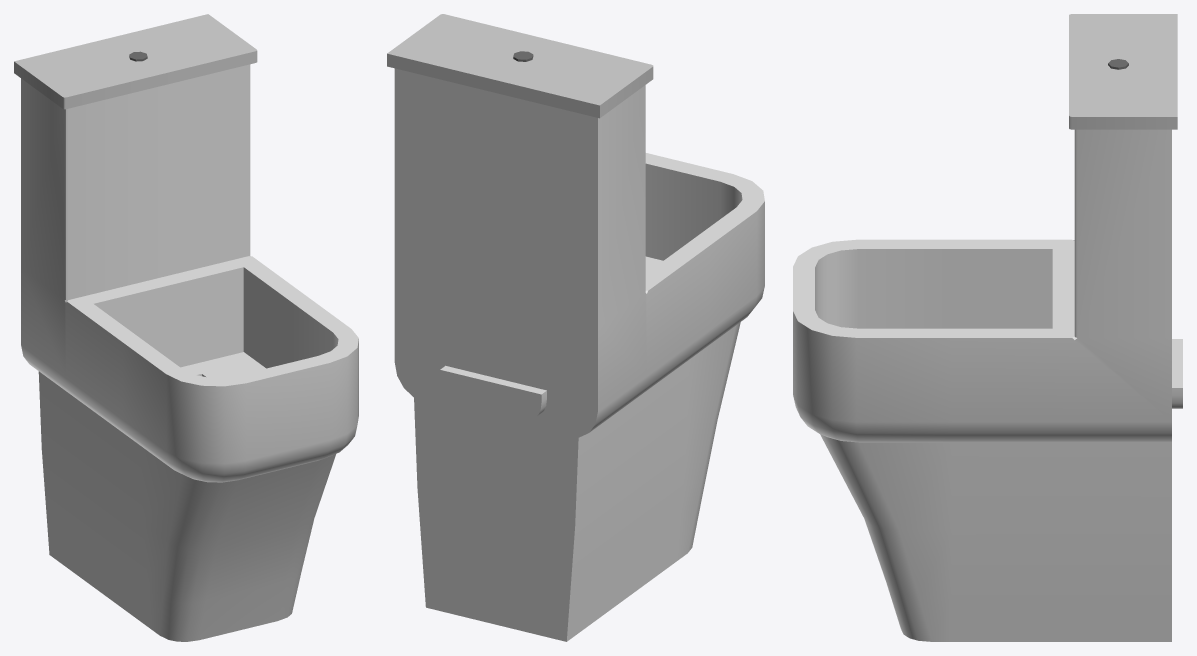
Rendered from Toilet2_C1_01.fbx.
3 views of the same model, side by side, from view 1: azimuth 30°, elevation 25°; view 2: azimuth 150°, elevation 25°; view 3: azimuth 270°, elevation 25° (orthographic). The views are drawn at different scales.
Visible parts, largest first — view 1: Toilet2_C1_01; view 2: Toilet2_C1_01; view 3: Toilet2_C1_01.
Part boxes in pixels (x1,y1,x2,y2): Toilet2_C1_01: (14, 14, 358, 641); Toilet2_C1_01: (387, 14, 764, 641); Toilet2_C1_01: (793, 14, 1182, 641).
Size of the model in its own units: 34.58 by 85.34 by 55.36.
